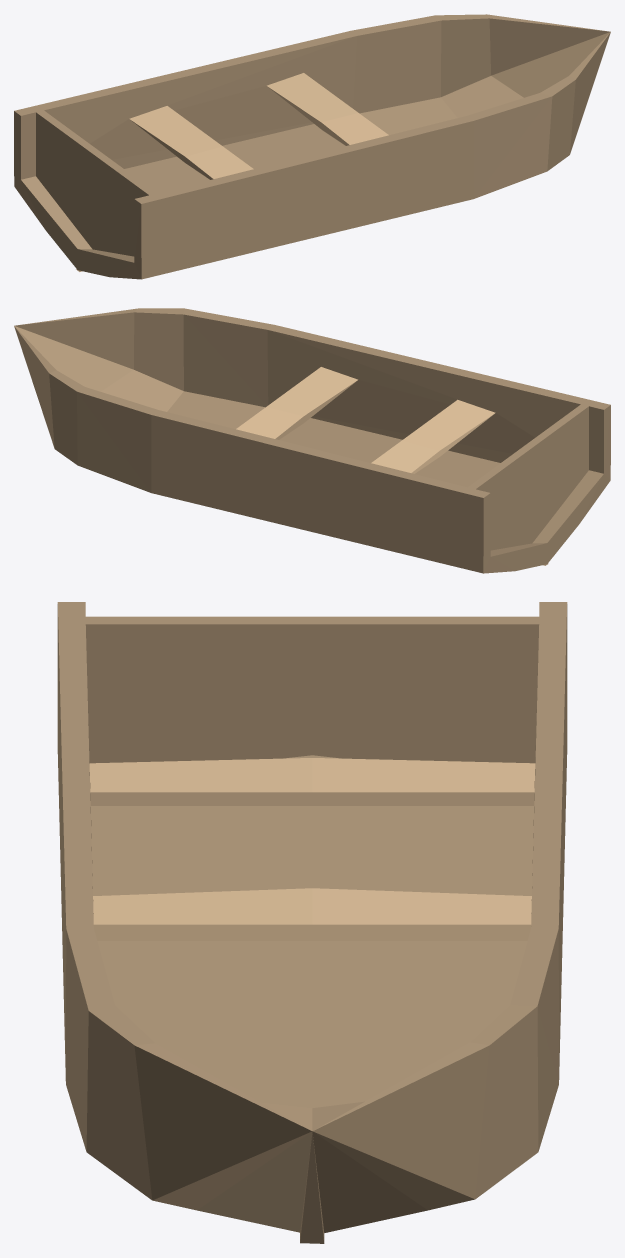
File: Barco-V4.fbx
The picture shows the model from 3 angles, top to bottom: view 1: azimuth 30°, elevation 25°; view 2: azimuth 150°, elevation 25°; view 3: azimuth 270°, elevation 25°; orthographic projection. The views are drawn at different scales.
Visible parts, largest first — view 1: Barco, Assentos; view 2: Barco, Assentos; view 3: Barco, Assentos.
Boxes of the visible parts, bbox=[...] form: Barco: bbox=[14, 14, 610, 279]; Assentos: bbox=[129, 73, 388, 179]; Barco: bbox=[14, 308, 610, 573]; Assentos: bbox=[236, 367, 495, 473]; Barco: bbox=[57, 602, 567, 1243]; Assentos: bbox=[89, 758, 535, 940].
Bounding box in the file's own units: 484 × 98.42 × 200.
